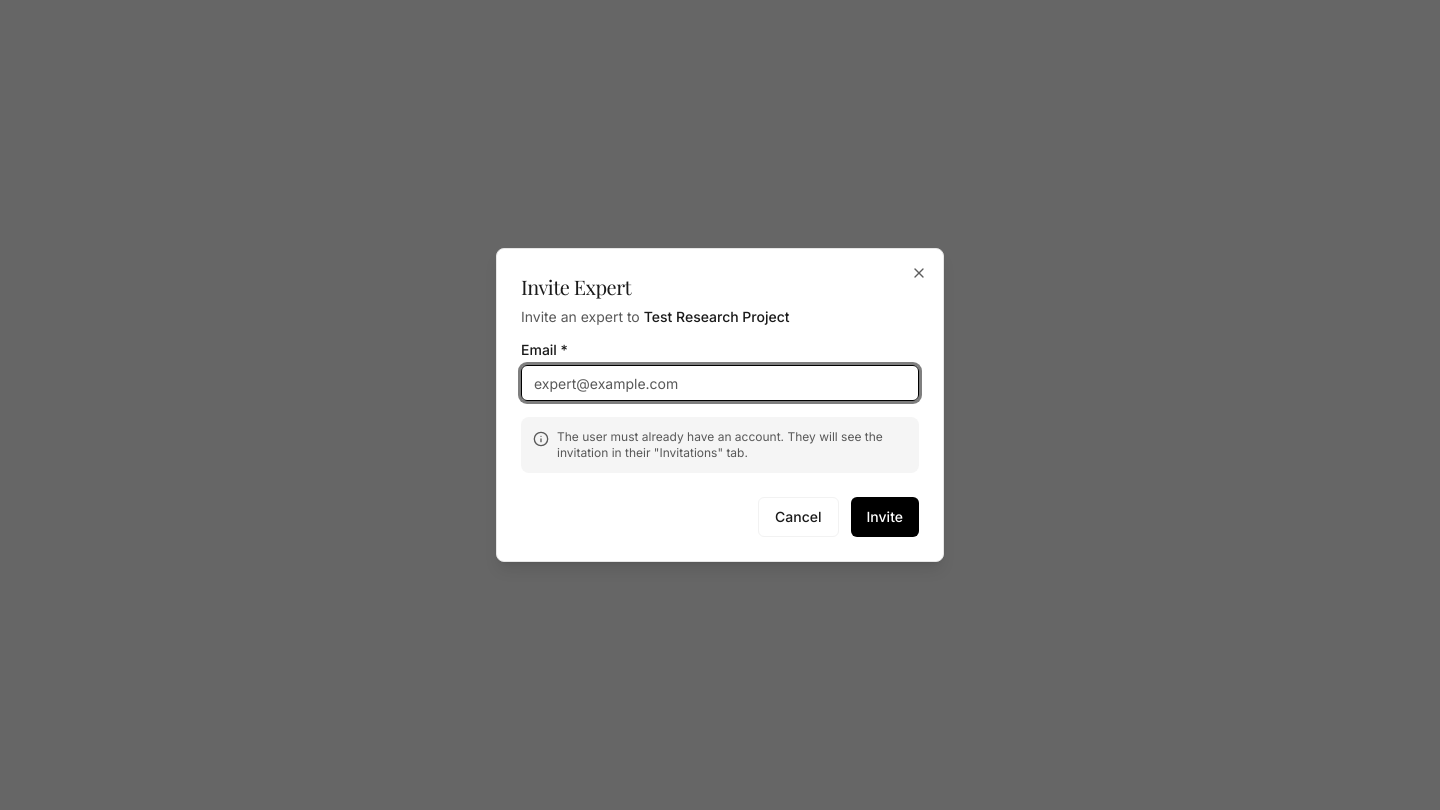
Scenario: InviteExpertModal › shows validation error for invalid email
This screenshot has width=1440, height=810.
In the field with placeholder "expert@example.com": [720, 383] box [521,365,919,401], type "invalid-email"
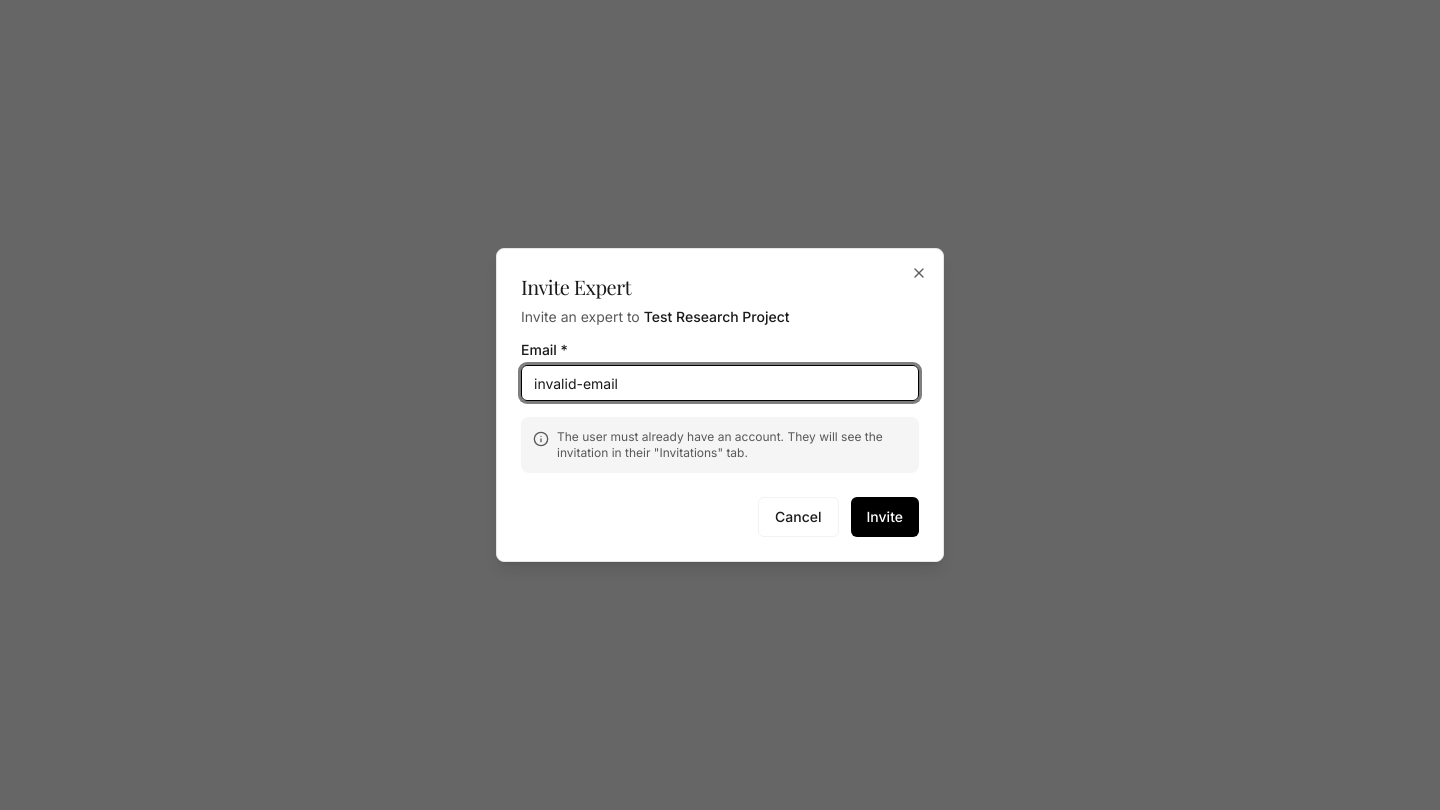
Press Tab
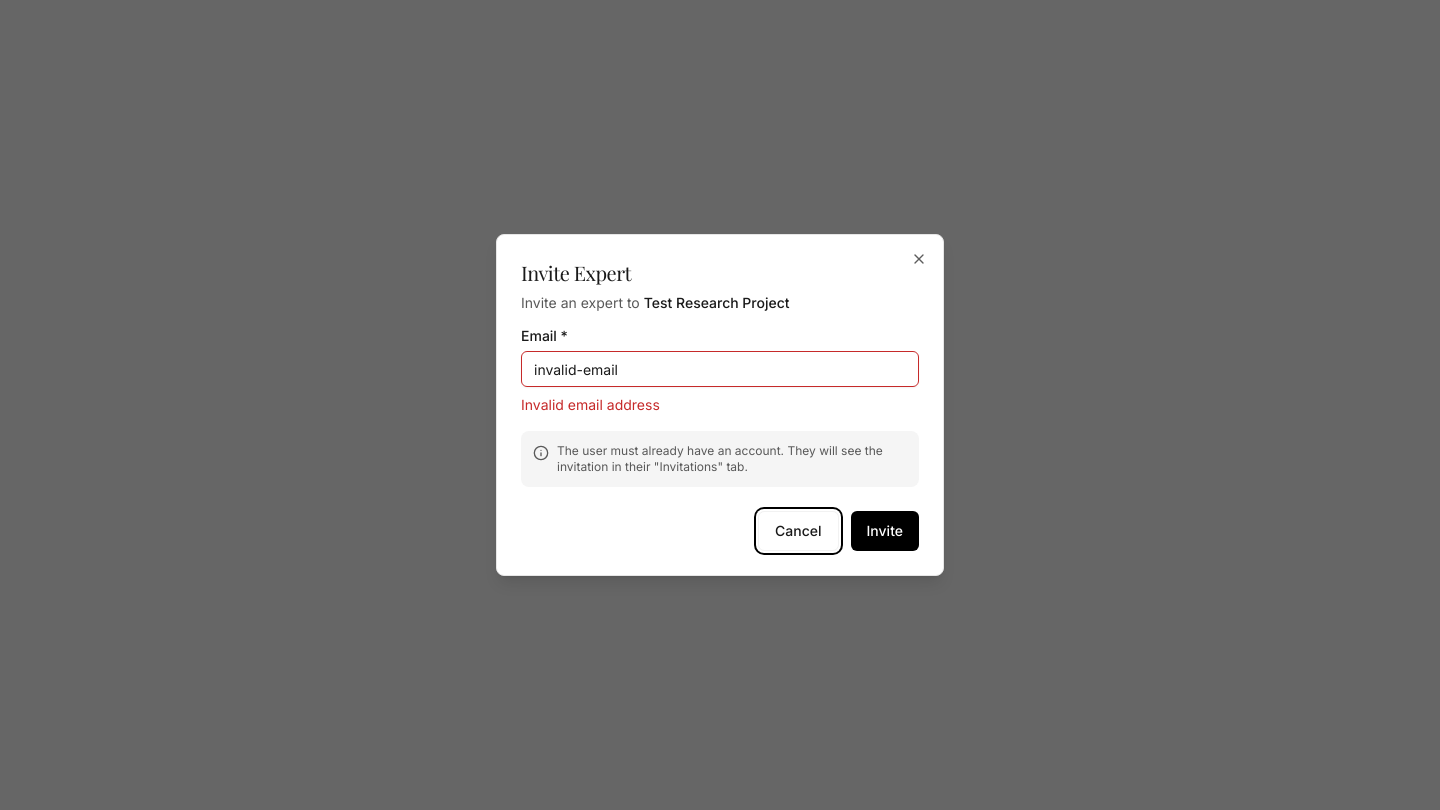
Now the text "Invalid email address" is shown, box [521,396,660,413]
